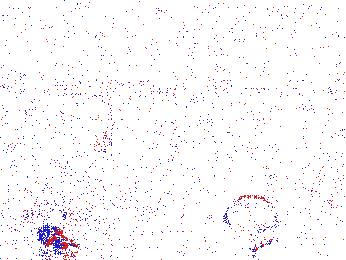flame jellyfish: (224, 194, 278, 253), (62, 94, 114, 155), (21, 198, 79, 250)
